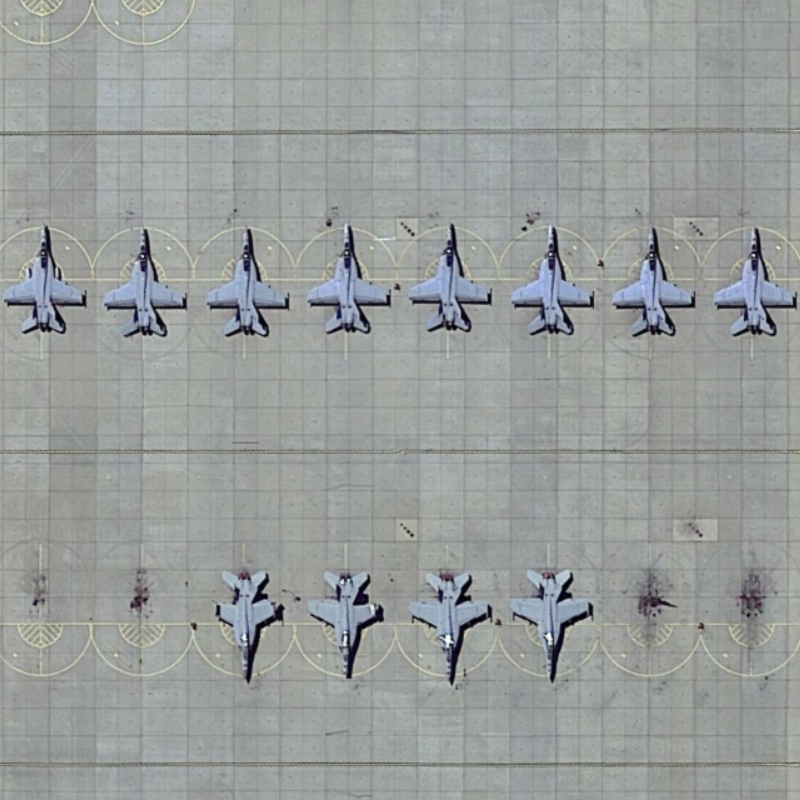A16: (504, 564, 598, 687), (200, 222, 295, 341), (404, 565, 495, 689), (98, 224, 192, 343), (301, 219, 394, 339), (1, 220, 93, 340), (508, 219, 598, 340), (609, 221, 700, 340), (404, 219, 496, 336), (710, 224, 800, 339), (210, 563, 287, 687), (304, 565, 385, 680)
